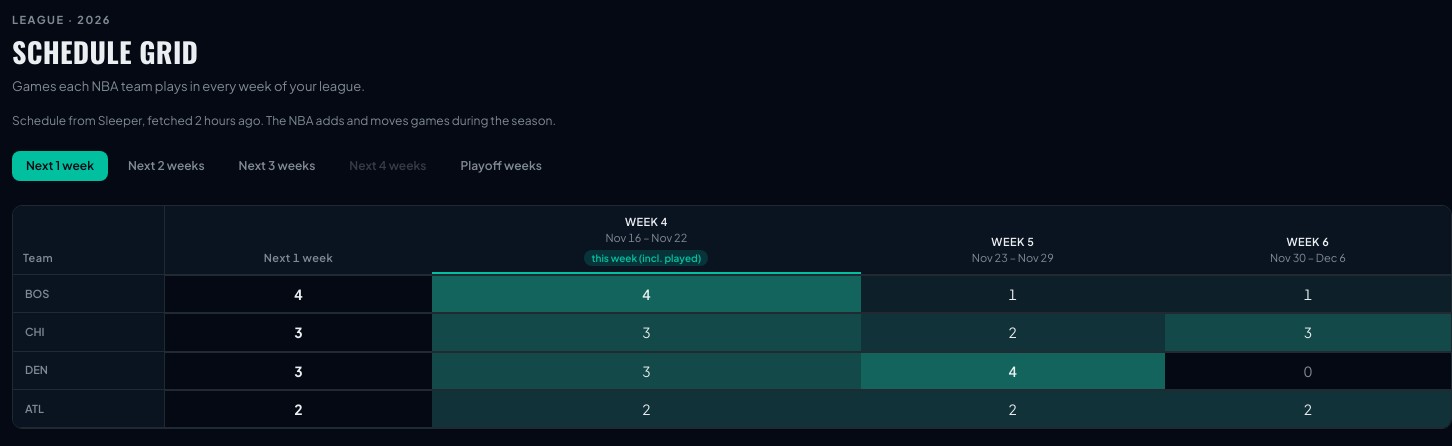
Test: Schedule grid › playoff weeks view (US2) › shows the reason and no table when the window could not be worked out
Expected: the column heading "BOS" is shown, x1=13 y1=275 x2=165 y2=314
What coordinates should you click on to do the following:
click the button "Playoff weeks"
I would click on:
 (501, 166)
Its box is x1=446 y1=151 x2=556 y2=181.
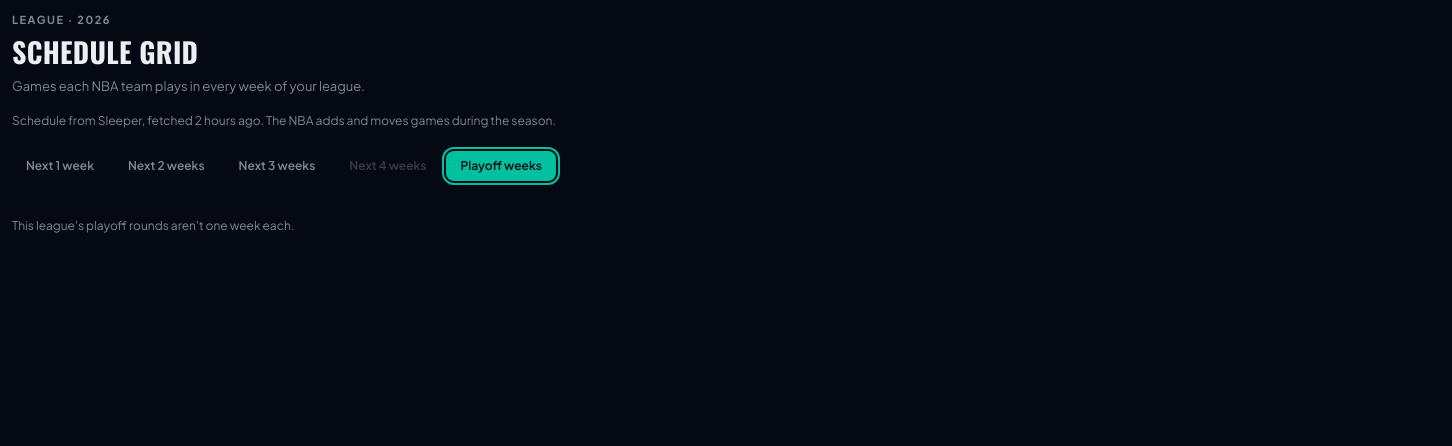
Expected: the text "This league's playoff rounds aren't one week each." is shown, x1=12 y1=218 x2=294 y2=233
Expected: the table is gone
